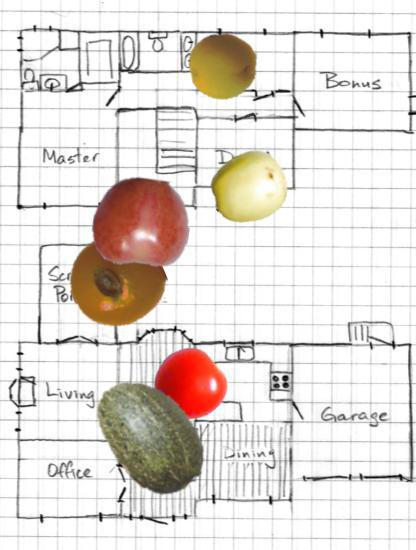Apple: (210, 147, 291, 228)
Cherry: (93, 174, 191, 272)
Melon: (82, 377, 209, 504)
Peach: (189, 32, 259, 102)
Physalis: (69, 232, 165, 328)
Tomato: (154, 349, 226, 421)
